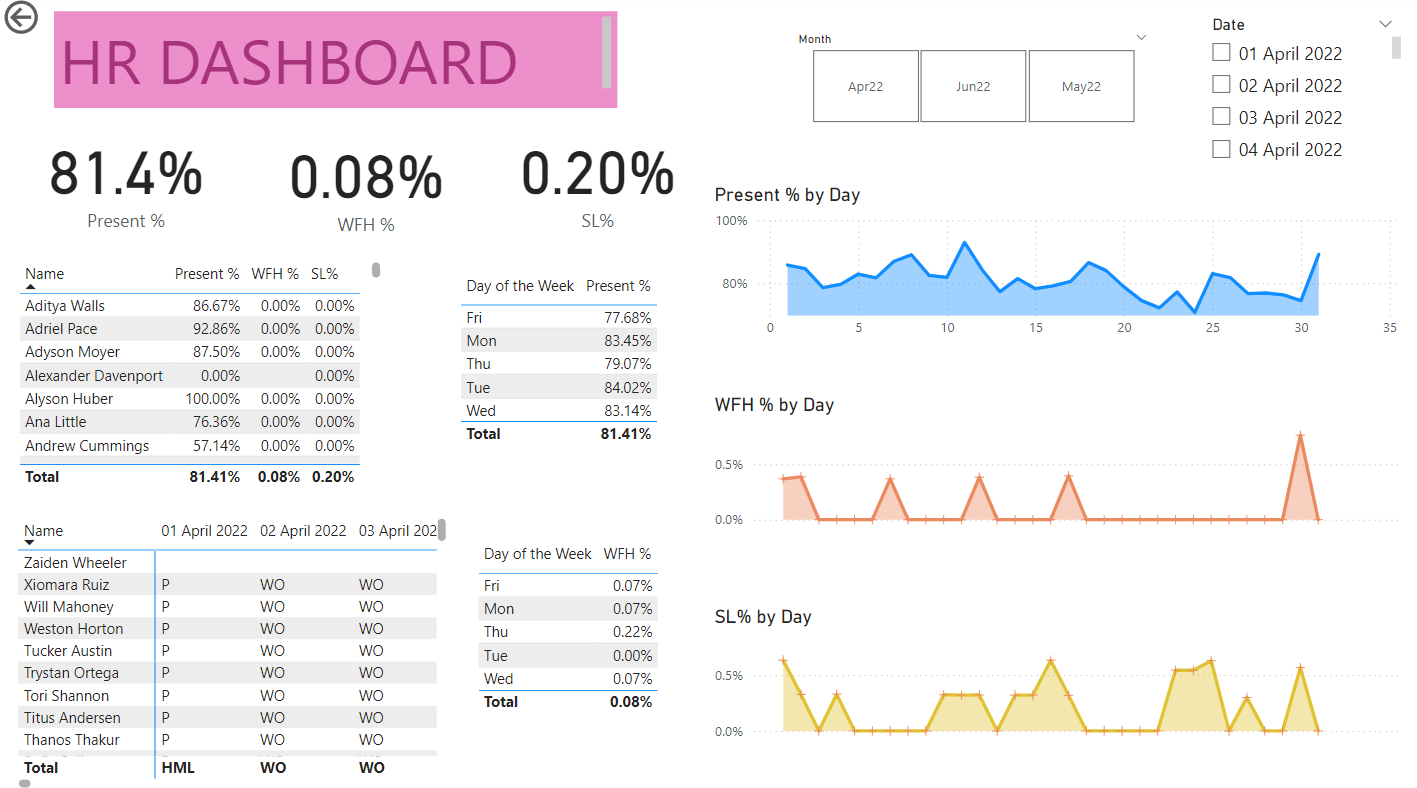

The page's visual inventory and layout, read from the dashboard file:
{"tool":"powerbi","page":{"name":"Page 1","canvas":[1280,720],"ordinal":0},"visuals":[{"type":"card","fields":{"Values":["Measures Table.Present %"]},"box":[18.3,107.2,193.2,115.6],"z":0},{"type":"slicer","fields":{"Values":["Final sheet.Date"]},"box":[1080.5,14.1,188.5,144.9],"z":1000},{"type":"slicer","fields":{"Values":["Final sheet.Month"]},"box":[707.8,28.2,339.8,93.1],"z":2000},{"type":"card","fields":{"Values":["Measures Table.WFH %"]},"box":[251,101.5,159.3,134],"z":3000},{"type":"card","fields":{"Values":["Measures Table.Sick Leave %"]},"box":[455.4,107.2,169.2,114.2],"z":4000},{"type":"tableEx","fields":{"Values":["Final sheet.Name","Measures Table.Present %","Measures Table.WFH %","Measures Table.SL%"]},"box":[12.7,235.5,337,212.9],"z":5000},{"type":"actionButton","box":[0,0,100,40],"z":6000},{"type":"textbox","box":[49.4,14.1,507.6,87.4],"z":7000},{"type":"pivotTable","fields":{"Rows":["Final sheet.Name"],"Values":["Final sheet.Values"],"Columns":["Final sheet.Date"]},"box":[12.7,466.7,396.2,253.8],"z":8000},{"type":"stackedAreaChart","fields":{"Category":["Final sheet.Date.Variation.Date Hierarchy.Day"],"Y":["Measures Table.Present %"]},"box":[640.1,170.6,628.9,148.1],"z":9000},{"type":"areaChart","fields":{"Category":["Final sheet.Date.Variation.Date Hierarchy.Day"],"Y":["Measures Table.WFH %"]},"box":[640.1,359.6,628.9,128.3],"z":10000},{"type":"areaChart","fields":{"Category":["Final sheet.Date.Variation.Date Hierarchy.Day"],"Y":["Measures Table.SL%"]},"box":[640.1,549.9,628.9,128.3],"z":11000},{"type":"tableEx","fields":{"Values":["Final sheet.Day of the Week","Measures Table.Present %"]},"box":[410.3,245.3,214.3,242.5],"z":11001},{"type":"tableEx","fields":{"Values":["Final sheet.Day of the Week","Measures Table.WFH %"]},"box":[425.8,487.9,214.3,183.3],"z":11002}]}

Visuals, with their boxes on the page's 1280x720 design canvas (x1, y1, x2, y2). These are canvas units, not pixel positions in the 1417x788 screenshot, which may show the page scaled, cropped or inside an application window:
card - Measures Table.Present %: bbox(18, 107, 212, 223)
slicer - Final sheet.Date: bbox(1080, 14, 1269, 159)
slicer - Final sheet.Month: bbox(708, 28, 1048, 121)
card - Measures Table.WFH %: bbox(251, 102, 410, 236)
card - Measures Table.Sick Leave %: bbox(455, 107, 625, 221)
tableEx - Final sheet.Name x Measures Table.Present %: bbox(13, 236, 350, 448)
actionButton: bbox(0, 0, 100, 40)
textbox: bbox(49, 14, 557, 102)
pivotTable - Final sheet.Name x Final sheet.Values: bbox(13, 467, 409, 720)
stackedAreaChart - Final sheet.Date.Variation.Date Hierarchy.Day x Measures Table.Present %: bbox(640, 171, 1269, 319)
areaChart - Final sheet.Date.Variation.Date Hierarchy.Day x Measures Table.WFH %: bbox(640, 360, 1269, 488)
areaChart - Final sheet.Date.Variation.Date Hierarchy.Day x Measures Table.SL%: bbox(640, 550, 1269, 678)
tableEx - Final sheet.Day of the Week x Measures Table.Present %: bbox(410, 245, 625, 488)
tableEx - Final sheet.Day of the Week x Measures Table.WFH %: bbox(426, 488, 640, 671)
